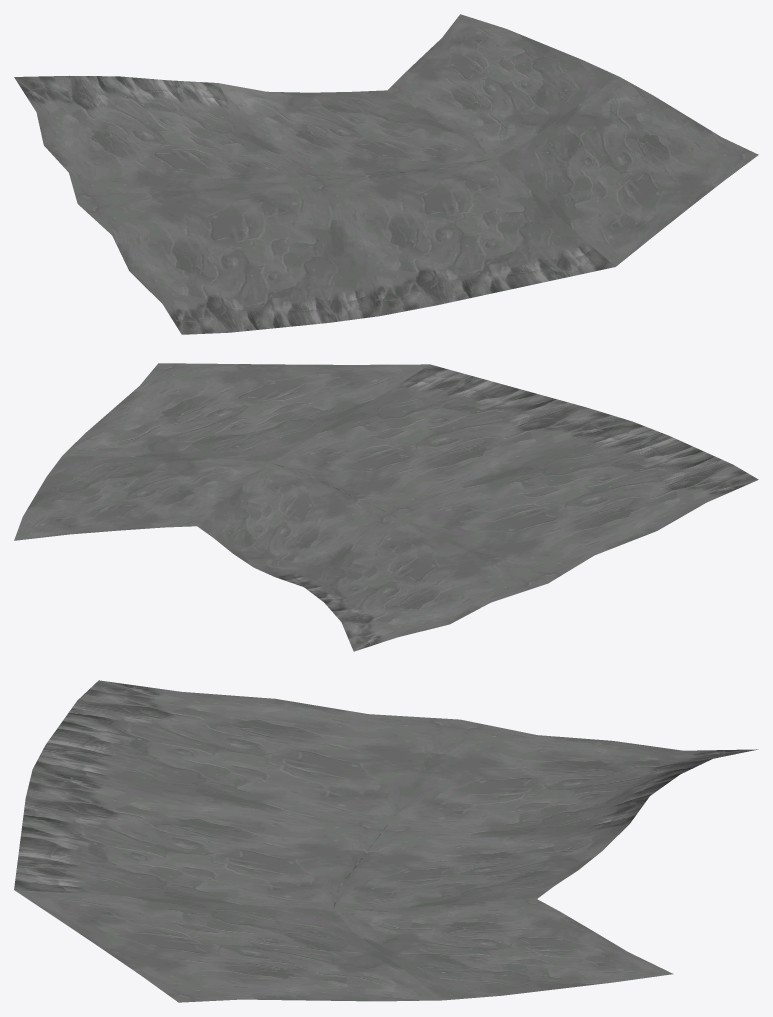
The model's file is SWORDLIGHT20_PS-AREA04_27.fbx.
3 renders of one model, top to bottom at view 1: azimuth 30°, elevation 25°; view 2: azimuth 150°, elevation 25°; view 3: azimuth 270°, elevation 25°, orthographic. The views are drawn at different scales.
Visible parts, largest first — view 1: SWORDLIGHT20_PS-AREA04_27; view 2: SWORDLIGHT20_PS-AREA04_27; view 3: SWORDLIGHT20_PS-AREA04_27.
Boxes of the visible parts, x1=… form: SWORDLIGHT20_PS-AREA04_27: x1=14, y1=14, x2=758, y2=334; SWORDLIGHT20_PS-AREA04_27: x1=14, y1=363, x2=758, y2=651; SWORDLIGHT20_PS-AREA04_27: x1=14, y1=680, x2=758, y2=1002.
Size of the model in its own units: 157909 by 5930 by 152540.
2 materials, 2 textured.
